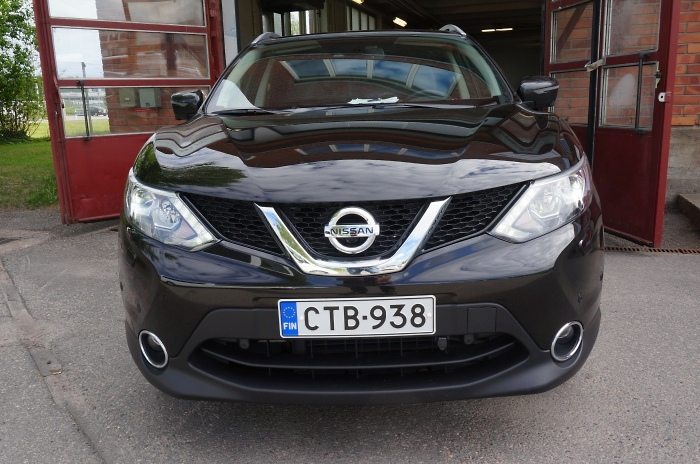license: (277, 292, 436, 340)
